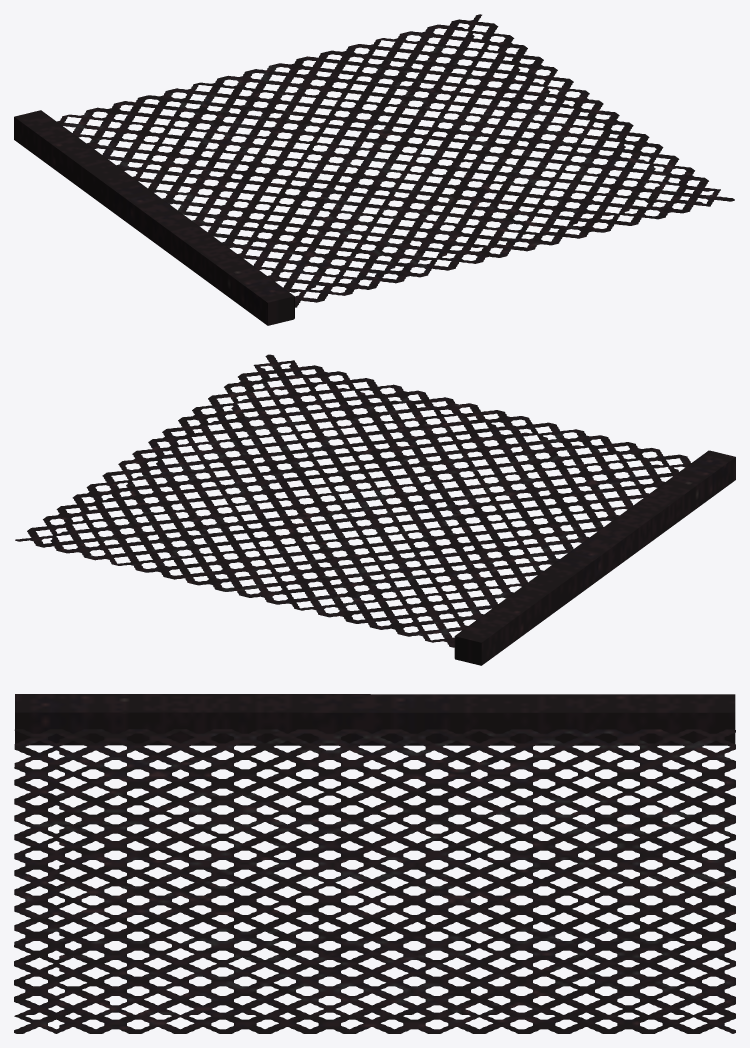
File: SM_EC_ChainFence_0.fbx
3 views of the same model, one above another, from view 1: azimuth 30°, elevation 25°; view 2: azimuth 150°, elevation 25°; view 3: azimuth 270°, elevation 25° (orthographic). The views are drawn at different scales.
Visible parts, largest first — view 1: SM_EC_ChainFence_0; view 2: SM_EC_ChainFence_0; view 3: SM_EC_ChainFence_0.
Boxes of the visible parts, x1=… form: SM_EC_ChainFence_0: x1=14, y1=14, x2=734, y2=325; SM_EC_ChainFence_0: x1=15, y1=354, x2=735, y2=665; SM_EC_ChainFence_0: x1=14, y1=694, x2=735, y2=1033.
Size of the model in its own units: 2.12 by 2 by 0.1.
